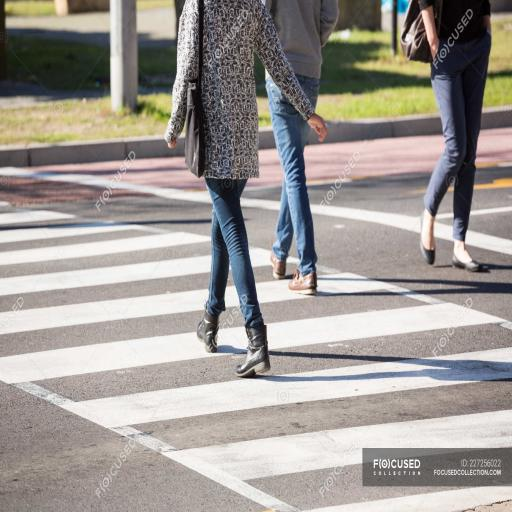person: (164, 0, 328, 378), (263, 0, 339, 294), (417, 0, 492, 272)
